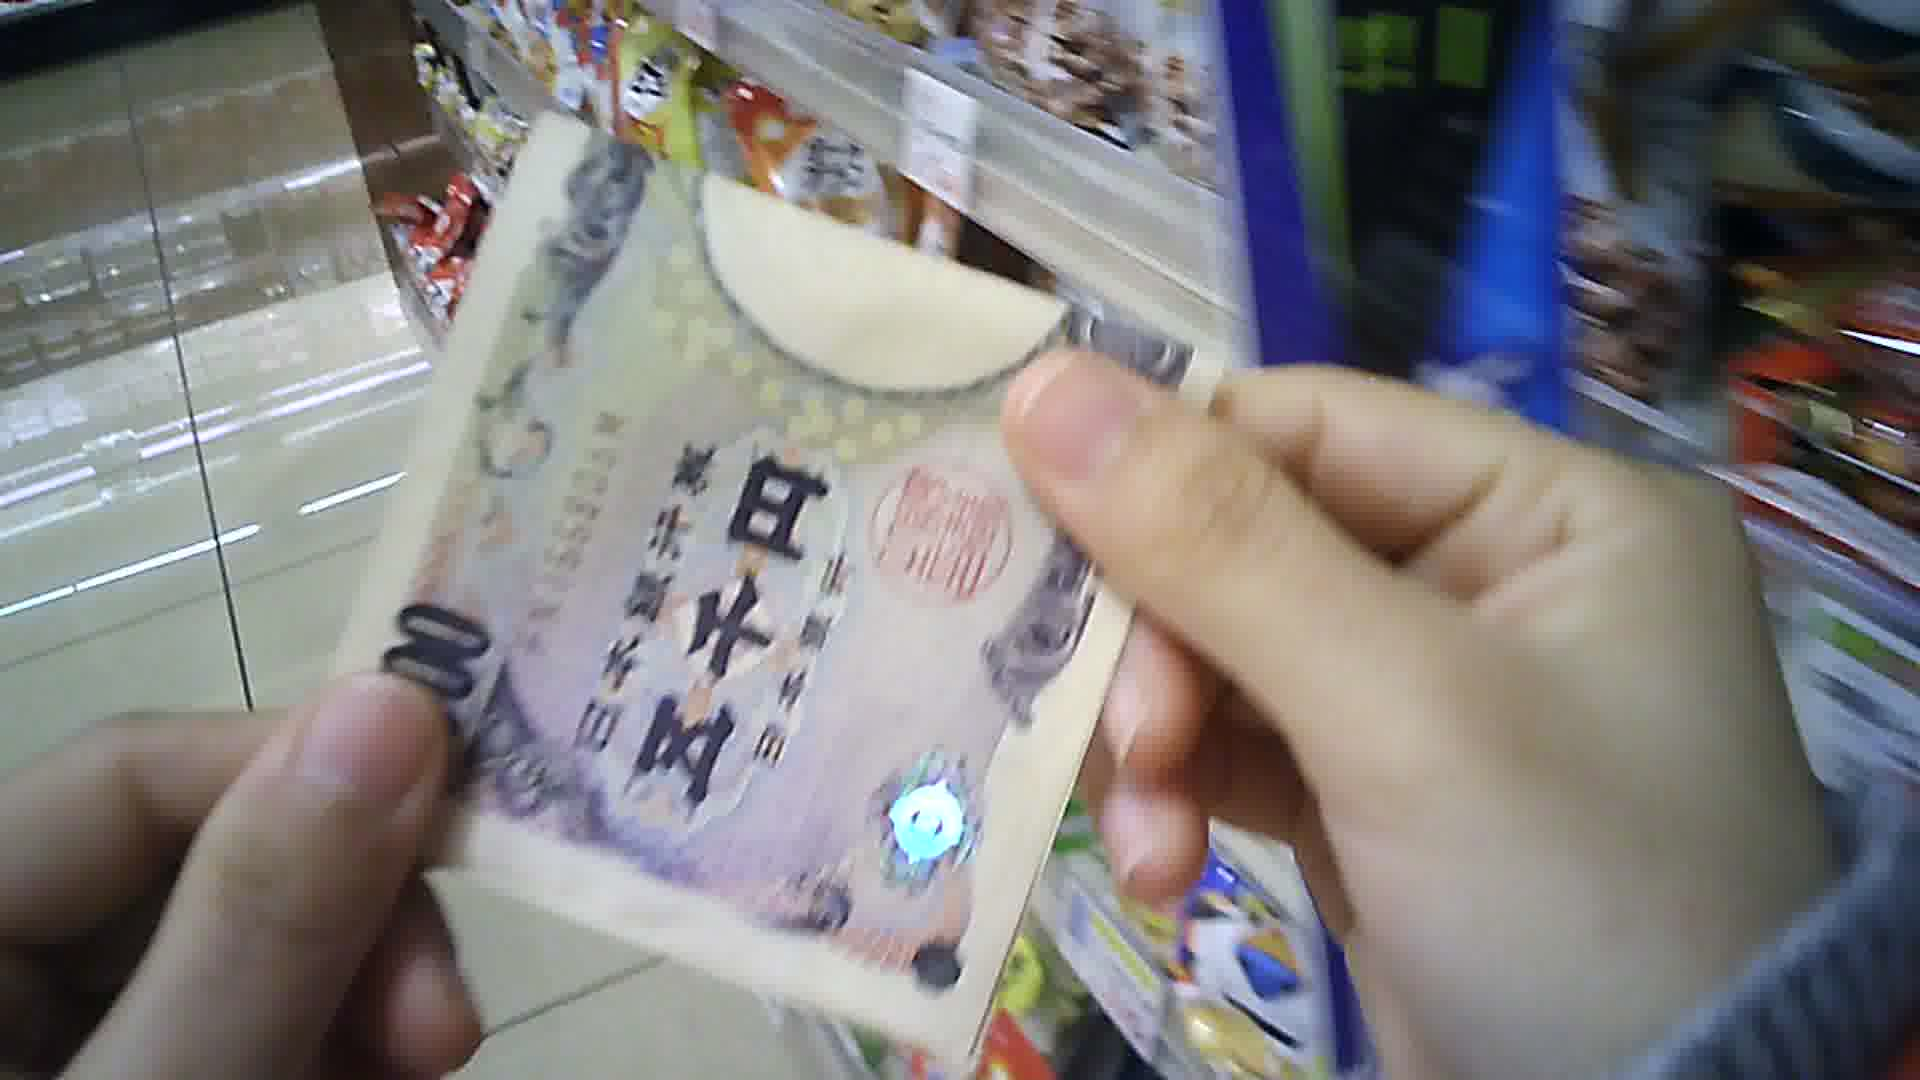5,000 Yen: (310, 104, 1234, 1069)
